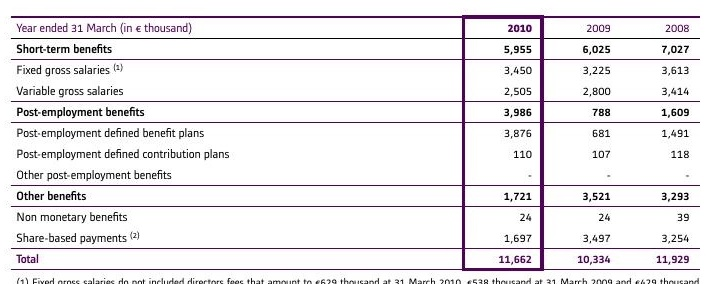table: (0, 0, 716, 284)
